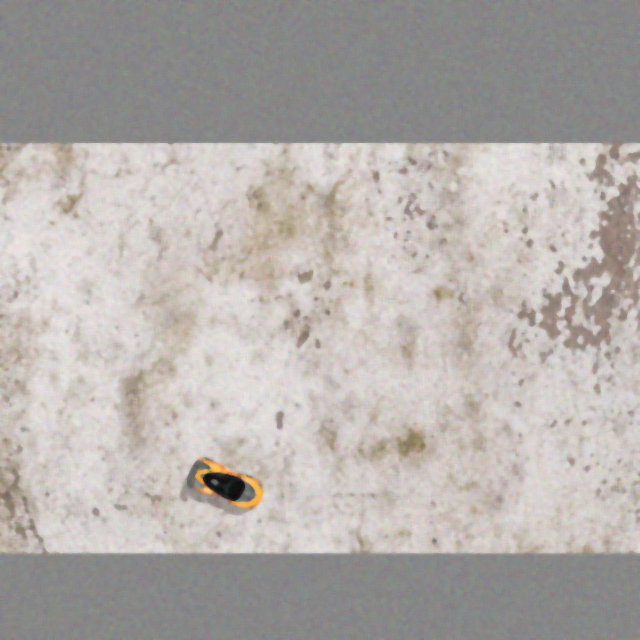car: (182, 453, 269, 517)
